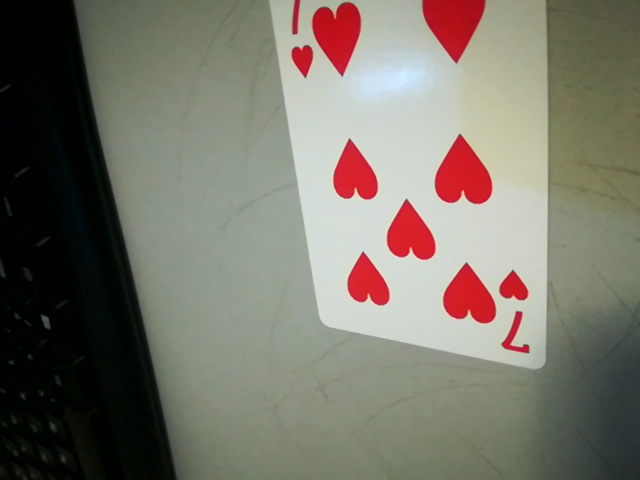hx 7: (491, 268, 541, 361)
